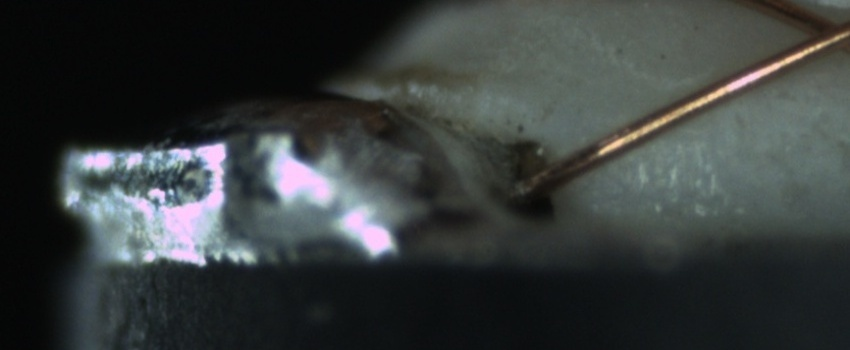CL: (782, 2, 849, 64)
